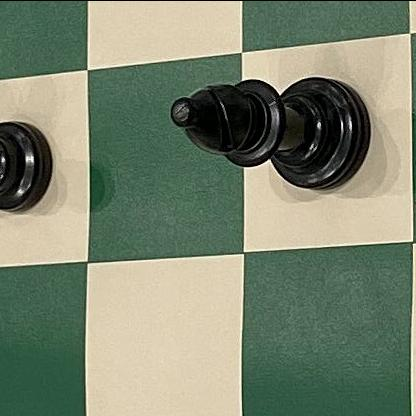black-bishop: (154, 61, 384, 197)
black-pawn: (0, 108, 65, 229)
